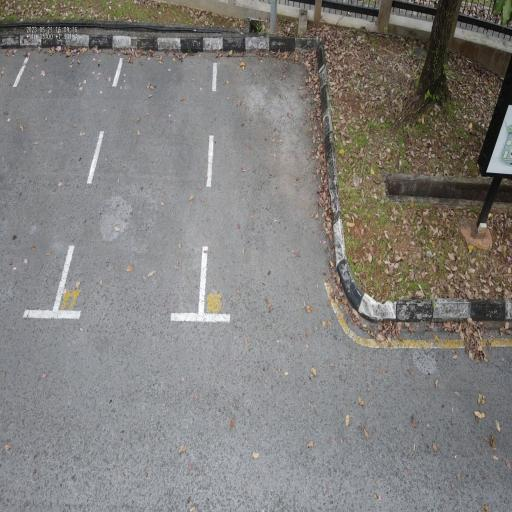Empty: (47, 34, 220, 313), (195, 41, 348, 336)
